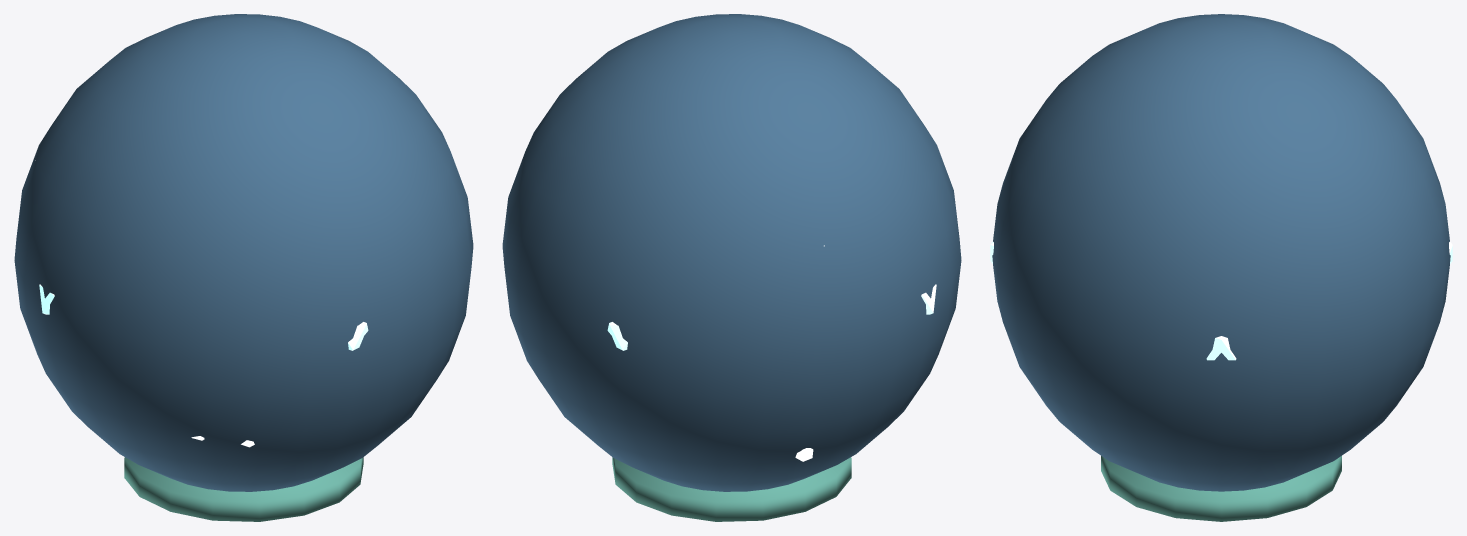
The model's file is egg_deepsea_01.glb.
3 renders of one model, left to right at view 1: azimuth 30°, elevation 25°; view 2: azimuth 150°, elevation 25°; view 3: azimuth 270°, elevation 25°, orthographic.
Parts seen in each view (by area): view 1: ball; view 2: ball; view 3: ball.
Part boxes in pixels (x1=…): ball: x1=14, y1=14, x2=473, y2=521; ball: x1=502, y1=14, x2=961, y2=521; ball: x1=990, y1=14, x2=1452, y2=521.
Bounding box in the file's own units: 0.8494 × 0.88 × 0.8451.
